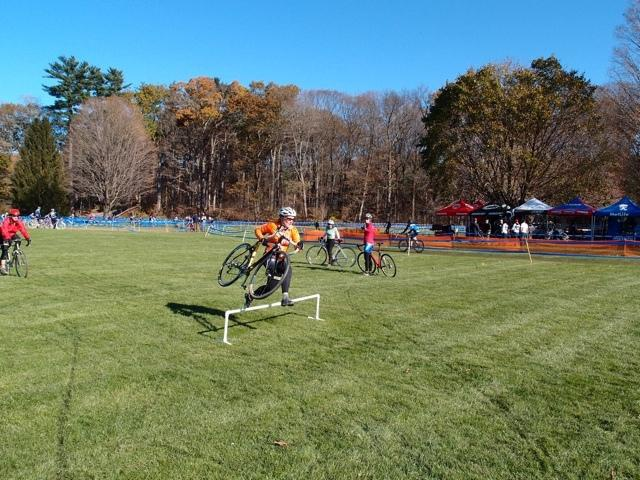non-vehicle: (217, 228, 302, 301), (306, 233, 357, 271), (355, 243, 397, 279), (0, 235, 31, 277), (395, 232, 424, 254)
